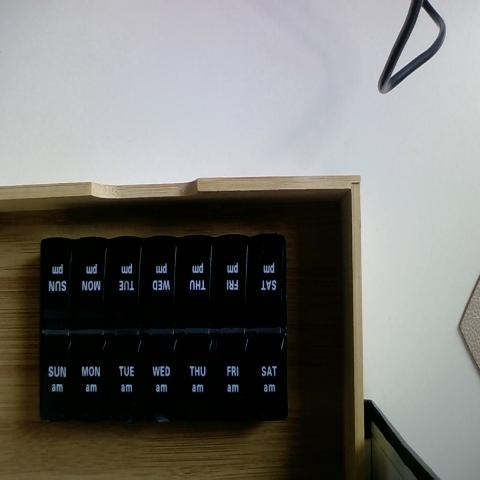FRI-am: (218, 317, 252, 405)
FRI-pm: (216, 226, 250, 312)
MON-am: (77, 324, 111, 414)
MON-pm: (76, 235, 114, 318)
SAT-am: (250, 311, 291, 399)
SAT-pm: (250, 217, 286, 309)
SUN-am: (43, 320, 77, 418)
SUN-pm: (42, 236, 77, 320)
THU-am: (184, 321, 218, 413), (112, 322, 143, 412)
THU-pm: (177, 222, 213, 317)
TUE-pm: (108, 233, 143, 315)
WED-am: (147, 325, 184, 413)
WED-pm: (143, 227, 179, 319)
